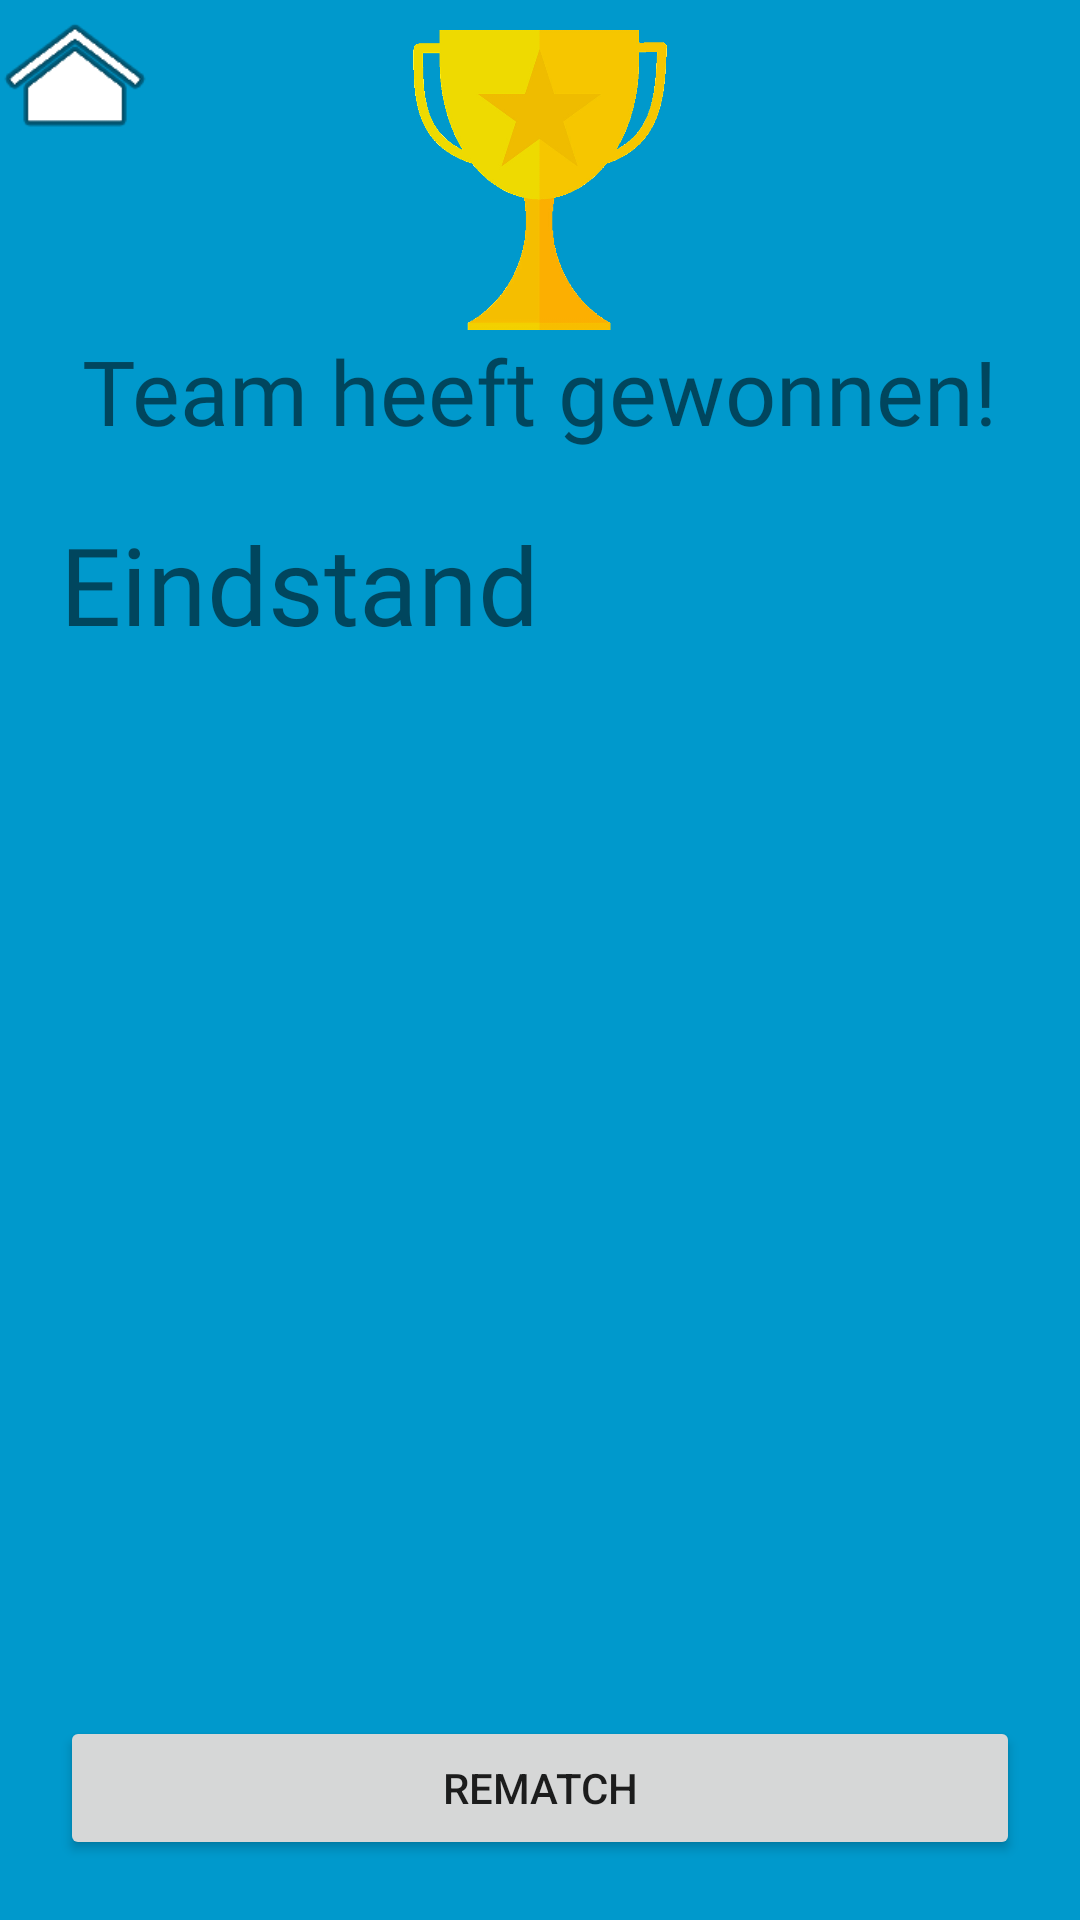

Screen size 1080×1920. Icon name, then its center in pixels as (x,y):
award: (540,180)
home: (75,75)
